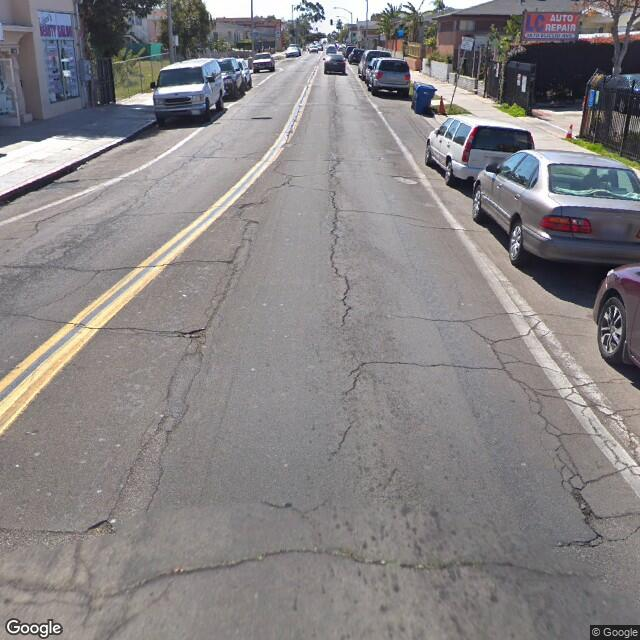road line: (114, 215, 236, 286), (268, 100, 311, 165)
window: (36, 9, 77, 105)
